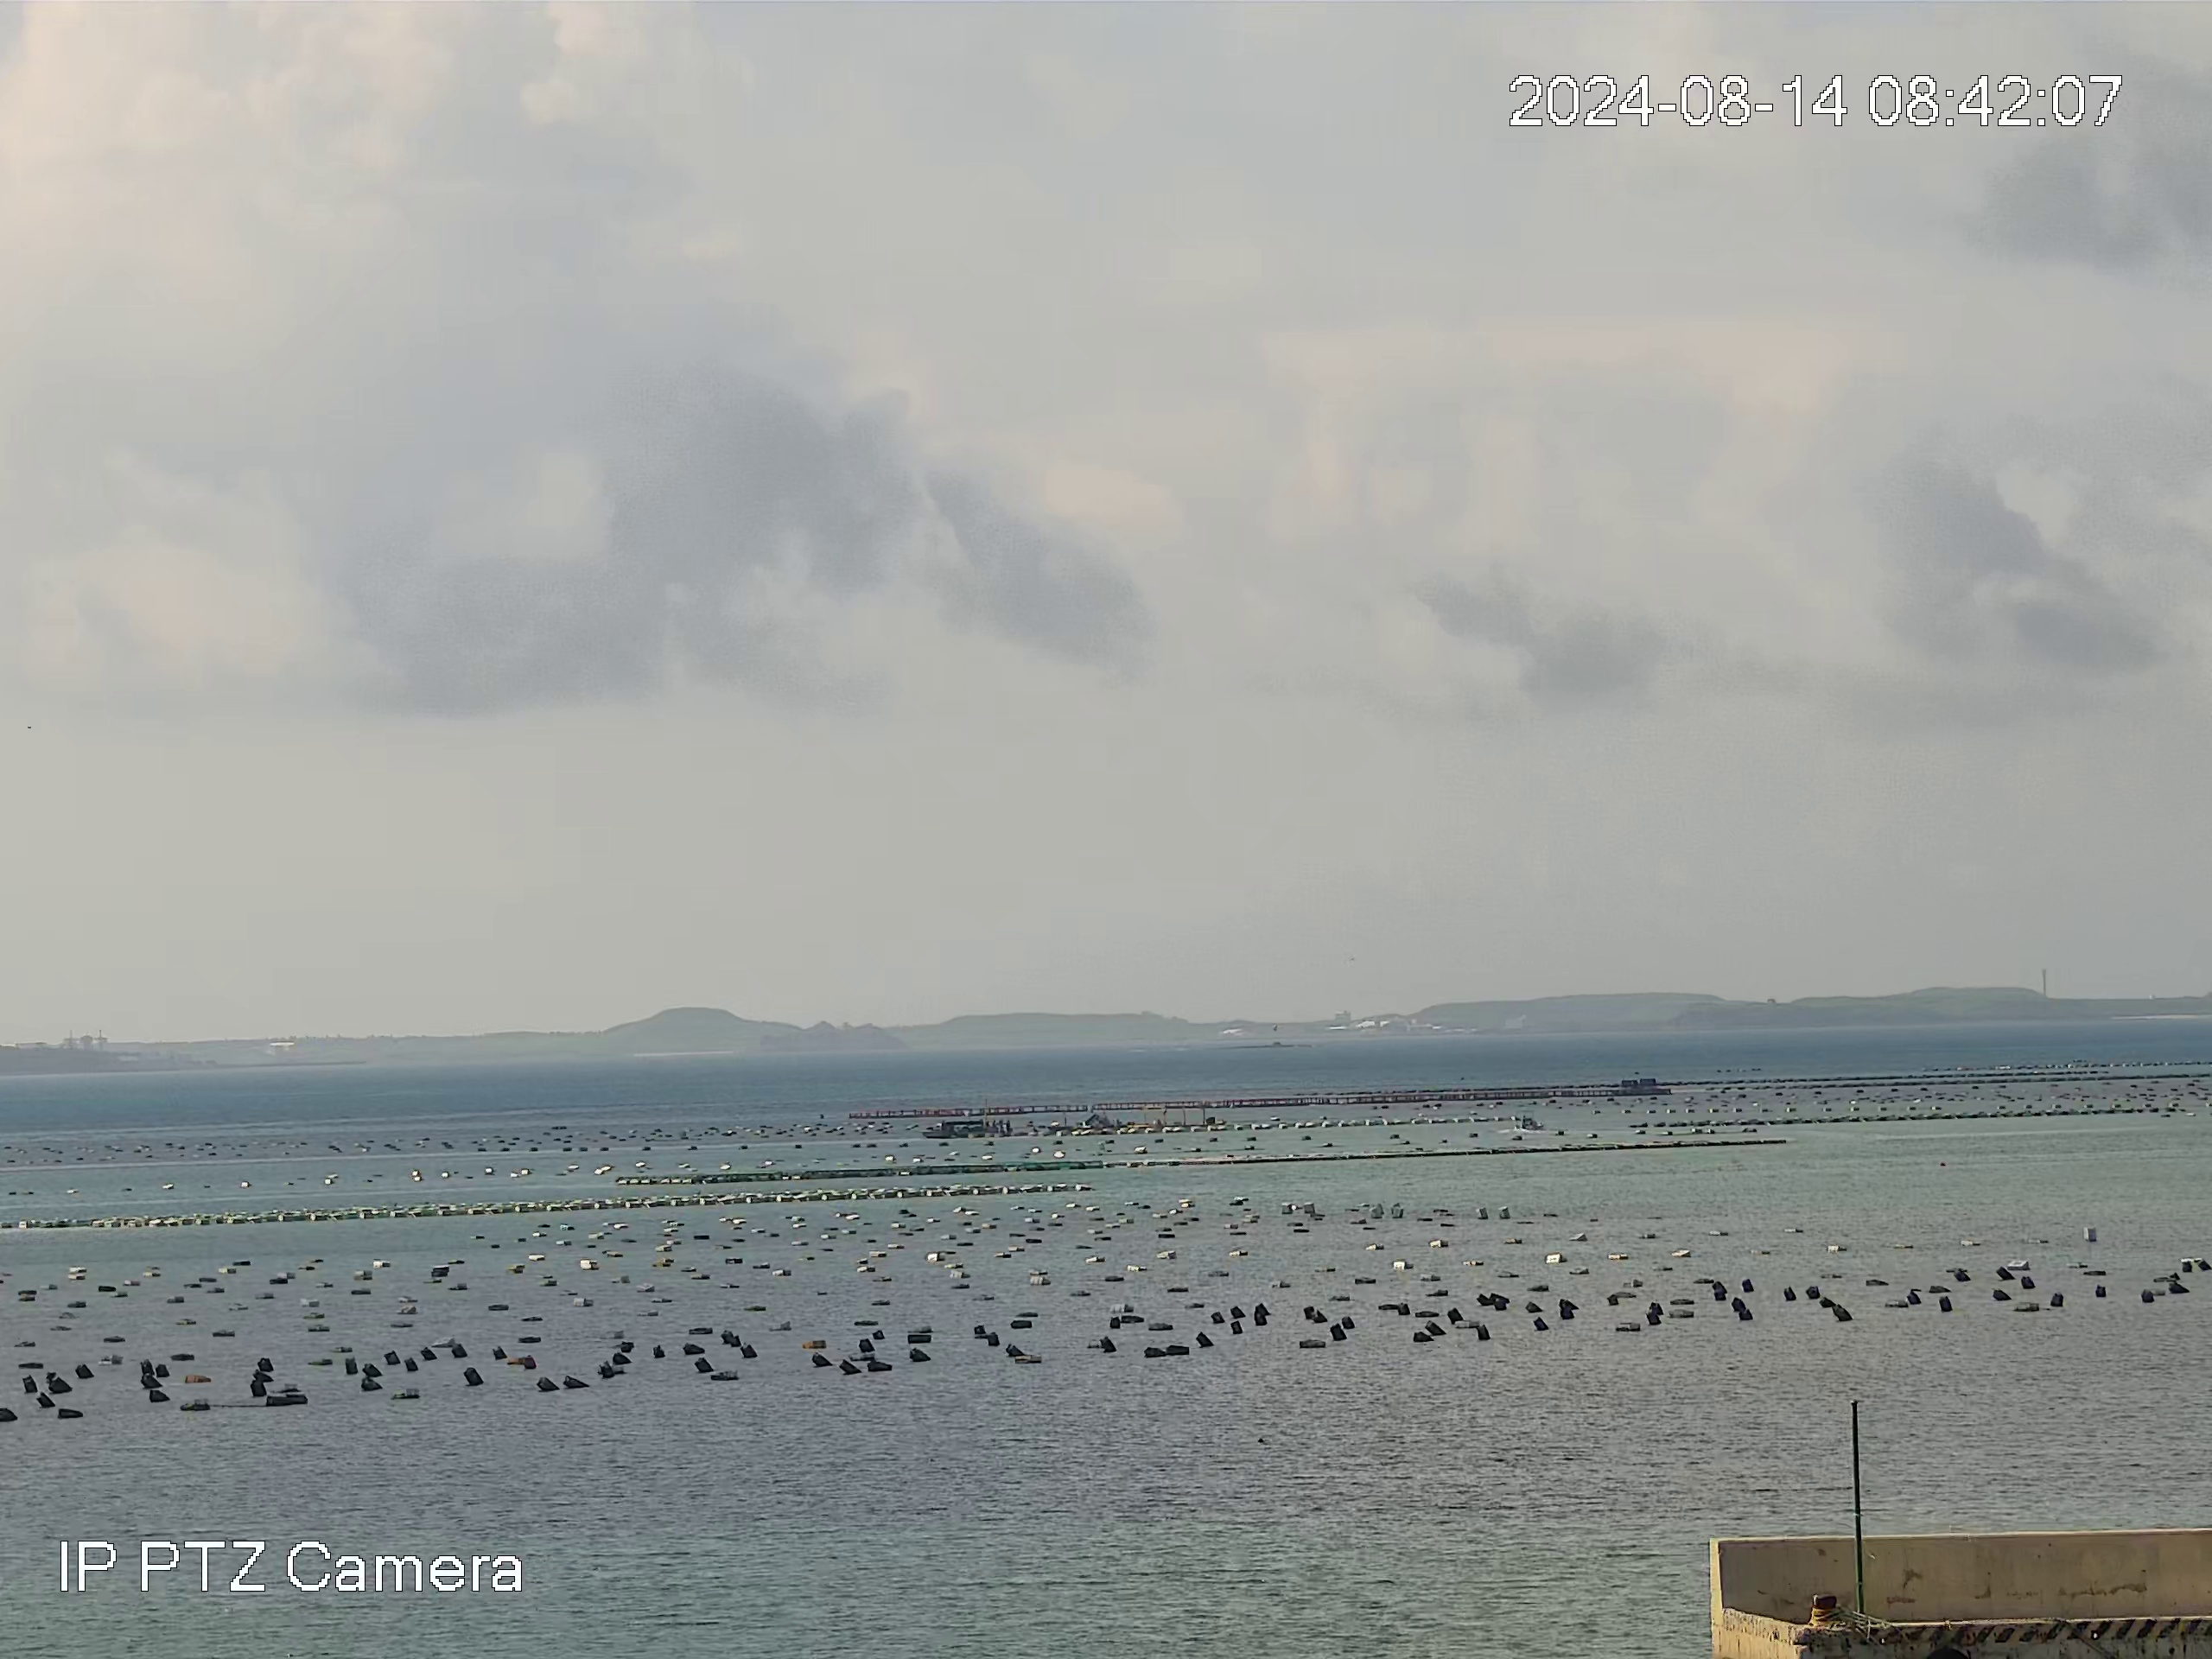boat: (923, 1122, 984, 1140), (1515, 1114, 1543, 1131)
